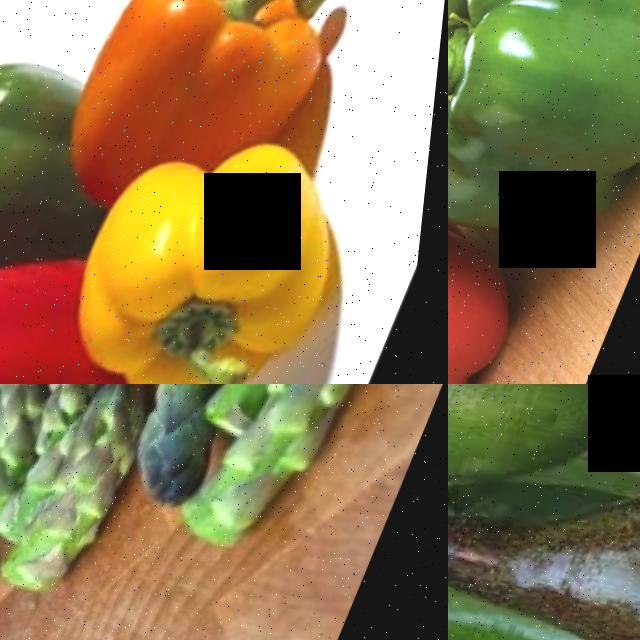asparagus: (6, 384, 195, 621), (213, 384, 430, 568), (128, 384, 241, 530)
avocado: (448, 400, 640, 640), (448, 384, 640, 553), (448, 548, 640, 640)
bell pepper: (77, 143, 356, 384), (448, 0, 640, 267), (66, 0, 322, 200), (0, 20, 91, 305), (448, 161, 554, 384)
